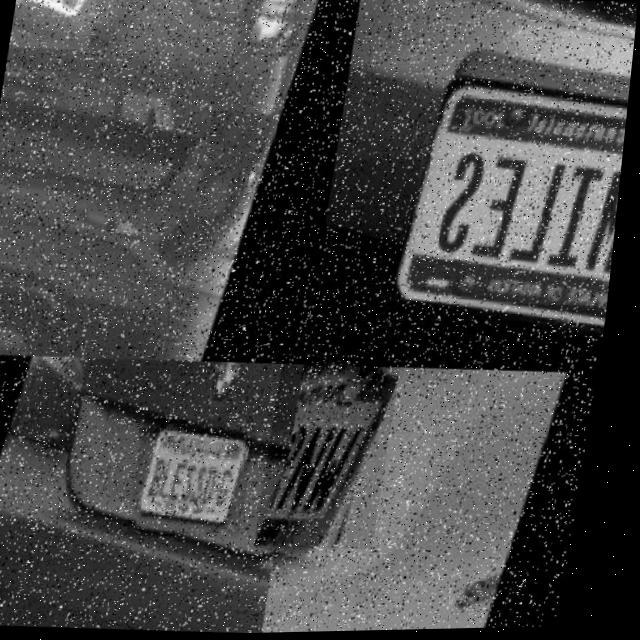LicensePlate: (405, 122, 629, 313), (266, 359, 407, 548), (137, 417, 267, 542), (10, 0, 97, 51)
